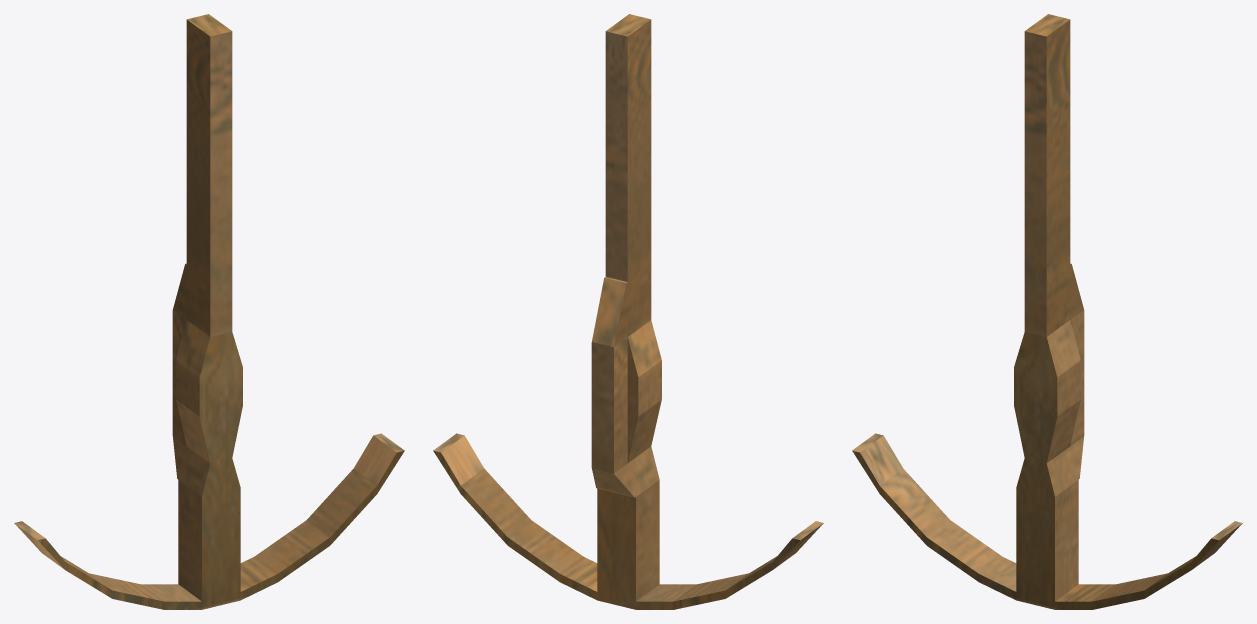
File: DynamiteCrossbow.fbx
3 renders of one model, left to right at view 1: azimuth 30°, elevation 25°; view 2: azimuth 150°, elevation 25°; view 3: azimuth 330°, elevation 25°, orthographic.
Visible parts, largest first — view 1: Cube.001; view 2: Cube.001; view 3: Cube.001.
Boxes of the visible parts, bbox=[...] form: Cube.001: bbox=[14, 14, 404, 609]; Cube.001: bbox=[433, 14, 823, 609]; Cube.001: bbox=[852, 14, 1242, 609].
Size of the model in its own units: 313 by 465 by 55.3.
